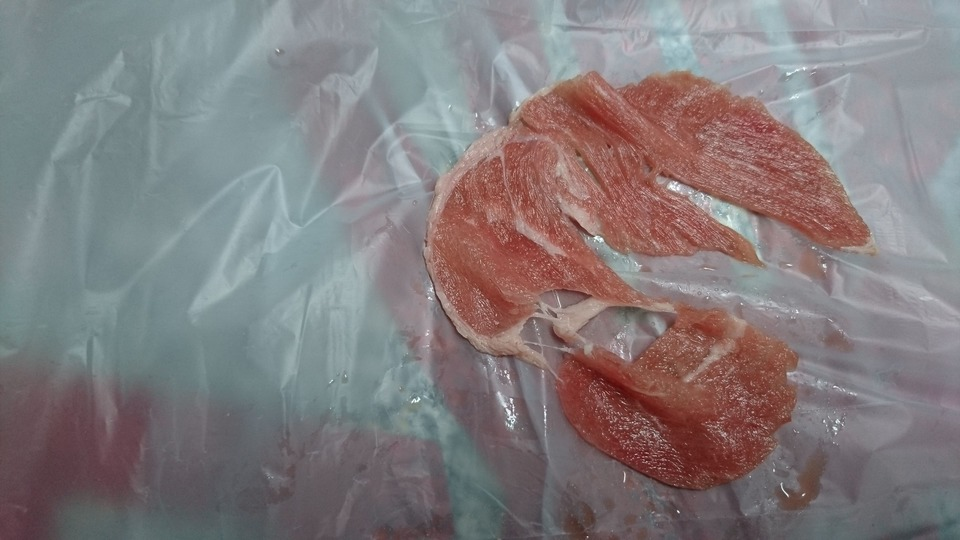restructured meat: (421, 67, 836, 503)
